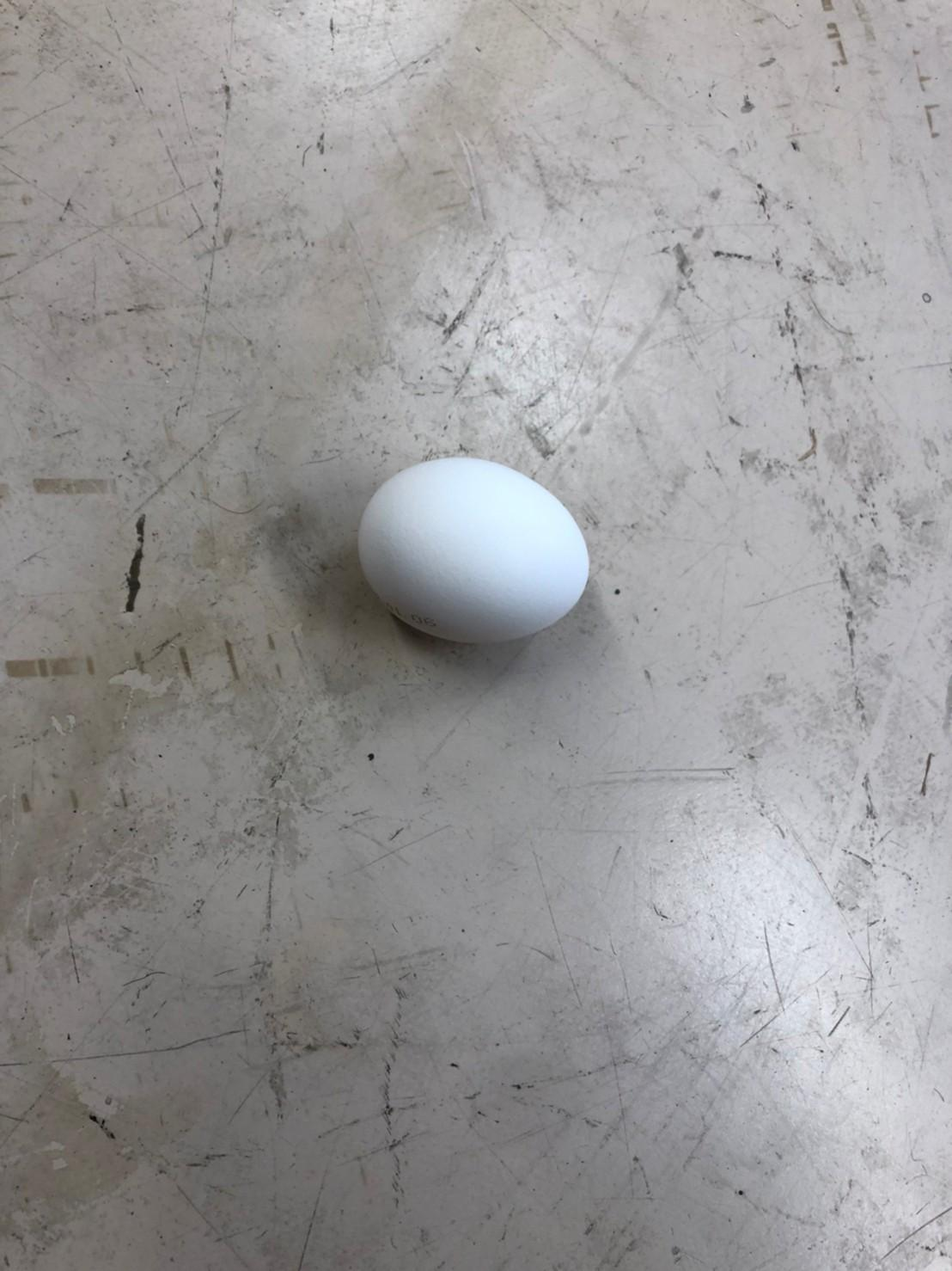egg: (351, 445, 590, 654)
